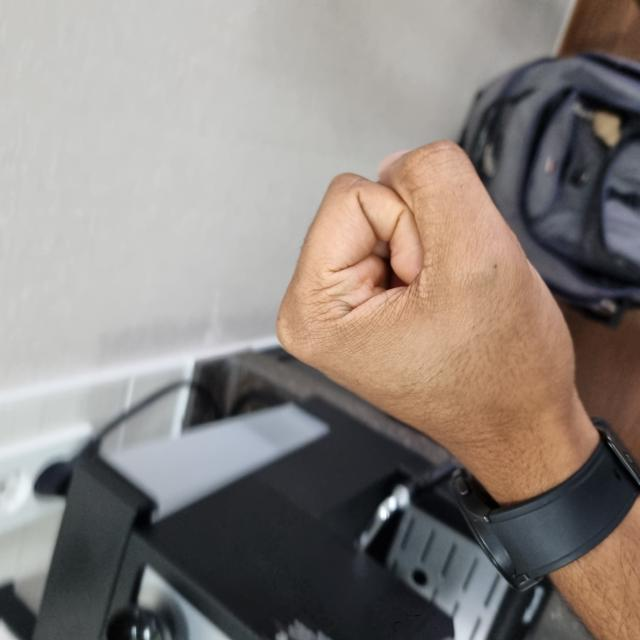Rock: (175, 278, 495, 573)
